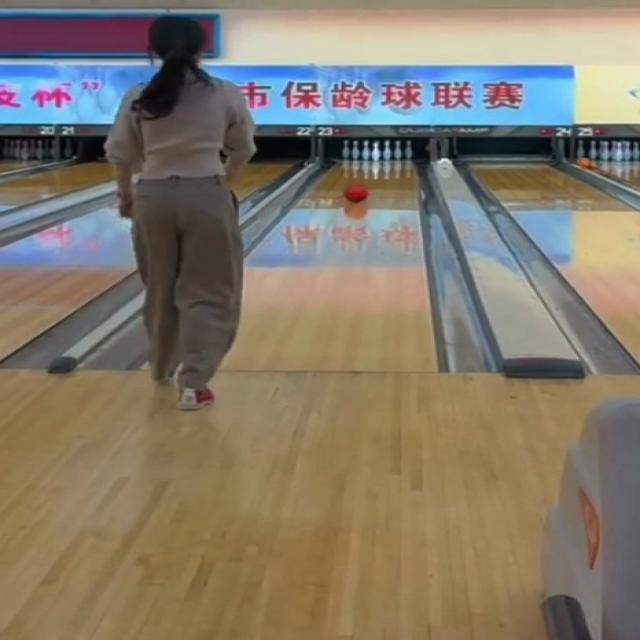alley: (227, 162, 437, 371)
balls: (345, 186, 368, 202)
bottle: (341, 140, 412, 161)
